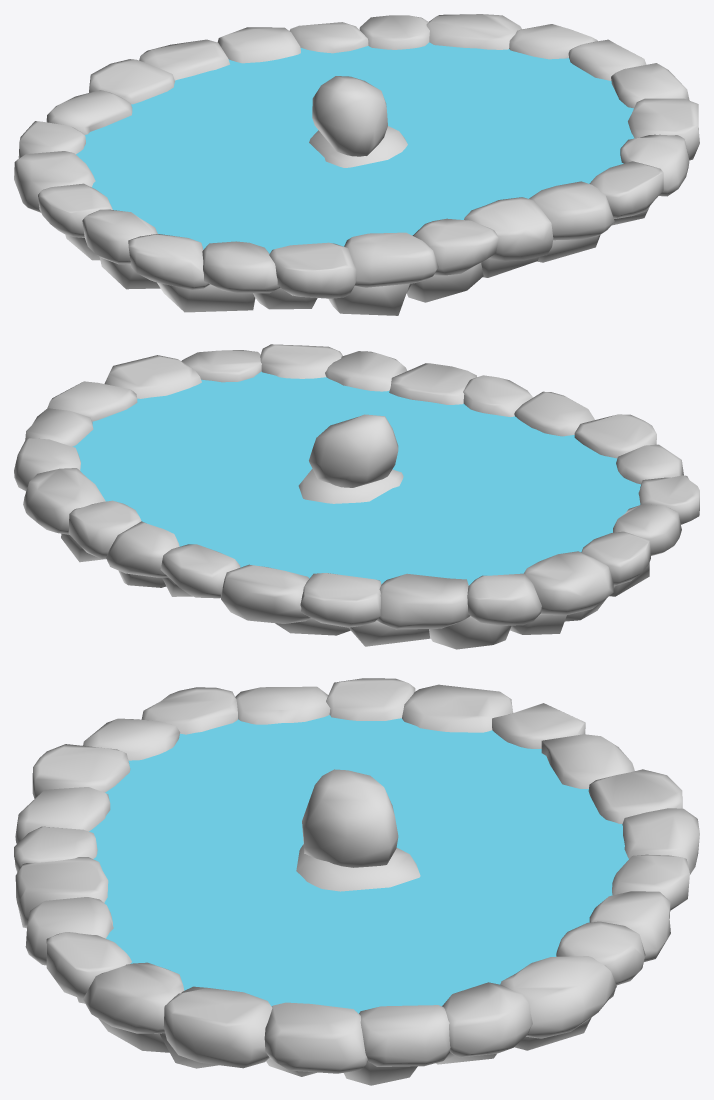
The model's file is Rock.fbx.
The picture shows the model from 3 angles, top to bottom: view 1: azimuth 30°, elevation 25°; view 2: azimuth 150°, elevation 25°; view 3: azimuth 270°, elevation 25°; orthographic projection. The views are drawn at different scales.
Visible parts, largest first — view 1: fishing_pond_rock; view 2: fishing_pond_rock; view 3: fishing_pond_rock.
Boxes of the visible parts, <box> form: fishing_pond_rock: <box>14,14,699,315</box>; fishing_pond_rock: <box>14,344,699,649</box>; fishing_pond_rock: <box>14,678,699,1085</box>.
Bounding box in the file's own units: 1116 × 226 × 899.
